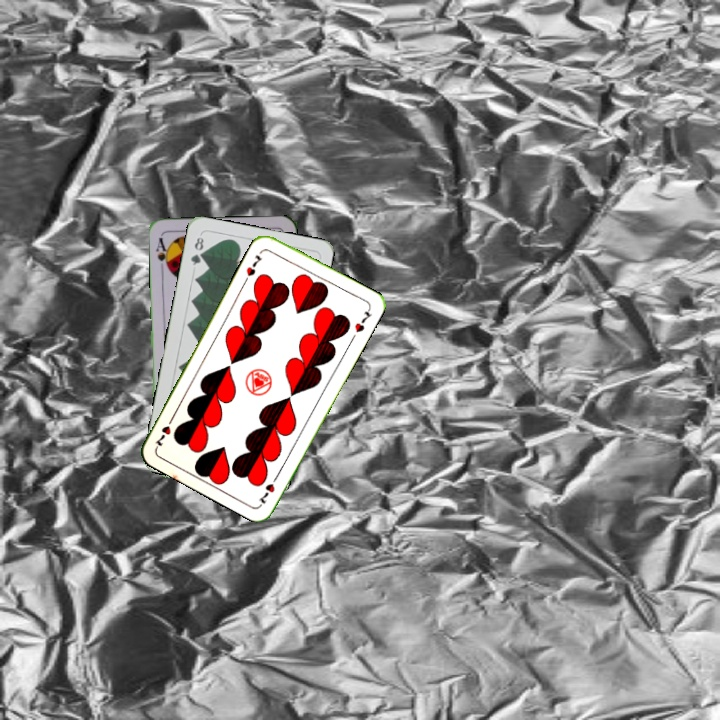G8: (186, 233, 206, 268)
H7: (254, 470, 282, 506), (242, 251, 265, 279)
SA: (152, 233, 172, 273)
